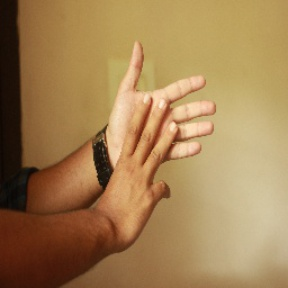M: (92, 38, 222, 218)
